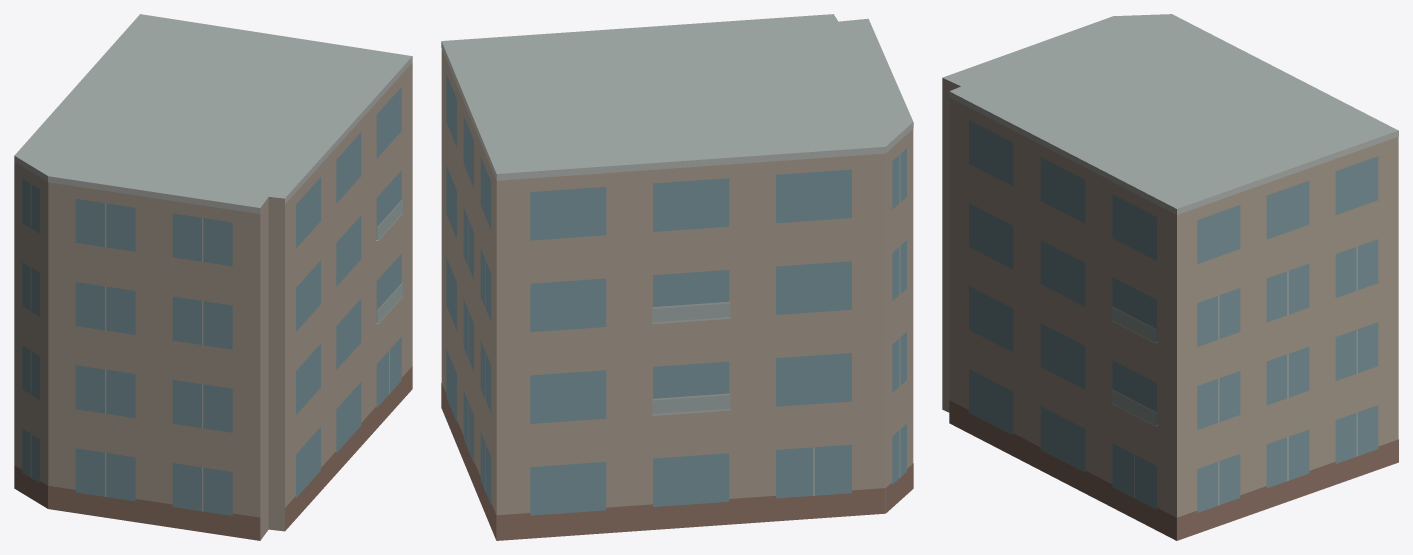
File: survey-upis-32781352.glb
3 views of the same model, side by side, from view 1: azimuth 30°, elevation 25°; view 2: azimuth 150°, elevation 25°; view 3: azimuth 270°, elevation 25° (orthographic). The views are drawn at different scales.
Parts seen in each view (by area): view 1: survey-upis-32781352.tmp; view 2: survey-upis-32781352.tmp; view 3: survey-upis-32781352.tmp.
Boxes of the visible parts, bbox=[...] form: survey-upis-32781352.tmp: bbox=[14, 14, 412, 540]; survey-upis-32781352.tmp: bbox=[441, 14, 913, 540]; survey-upis-32781352.tmp: bbox=[942, 14, 1398, 540].
Size of the model in its own units: 16.83 by 13.35 by 16.65.
